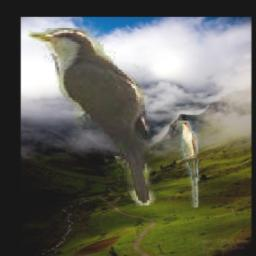Cuckoo: (29, 29, 158, 207), (177, 121, 198, 208)
